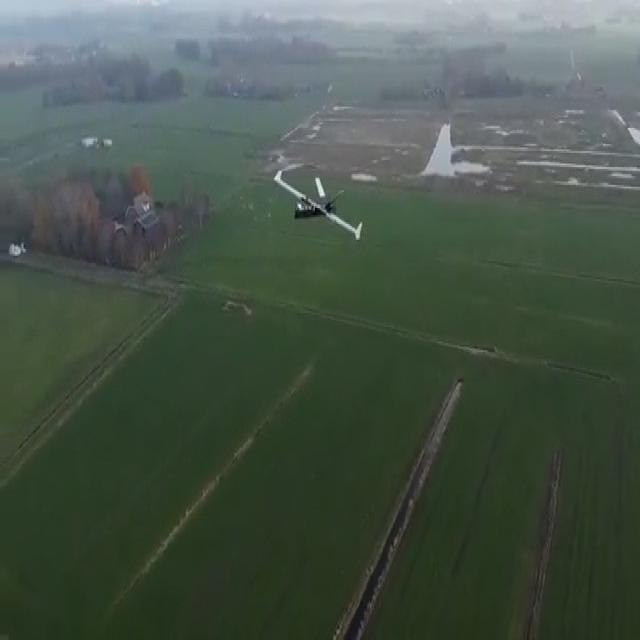drones: (266, 144, 365, 253)
